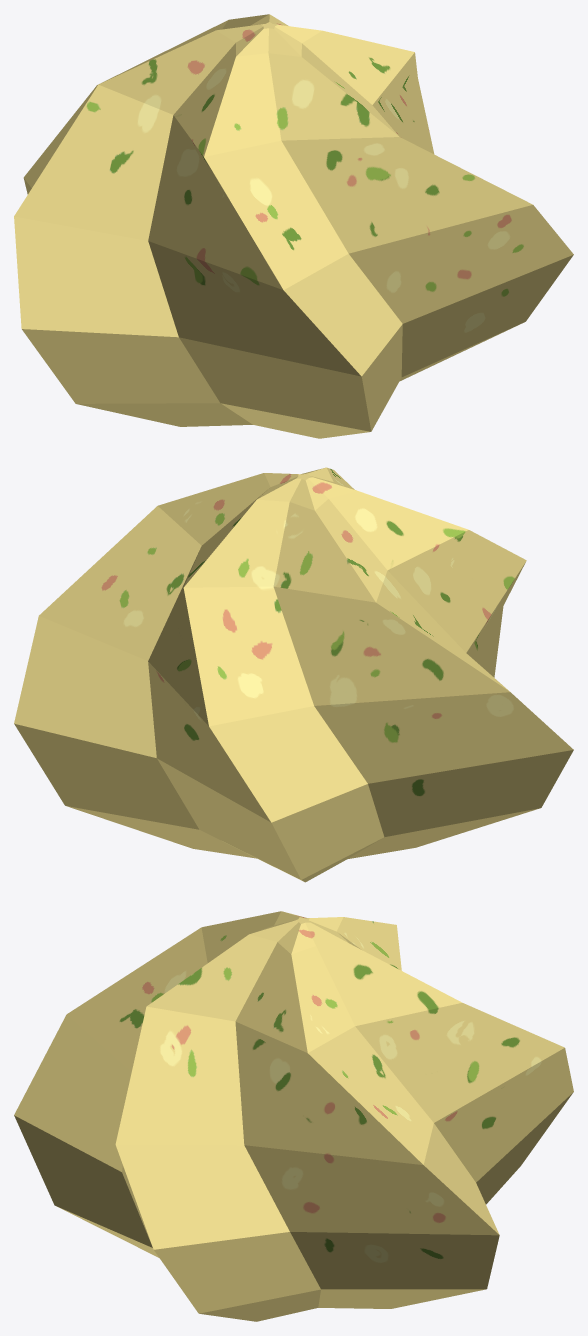
The model's file is 醬汁花_塗色完成.fbx.
3 views of the same model, one above another, from view 1: azimuth 30°, elevation 25°; view 2: azimuth 150°, elevation 25°; view 3: azimuth 270°, elevation 25° (orthographic). The views are drawn at different scales.
Visible parts, largest first — view 1: Circle.006; view 2: Circle.006; view 3: Circle.006.
Boxes of the visible parts, x1,y1,x2,y2 form: Circle.006: (14, 14, 573, 438); Circle.006: (14, 467, 573, 882); Circle.006: (14, 911, 573, 1321).
Bounding box in the file's own units: 36.63 × 26.23 × 37.31.
